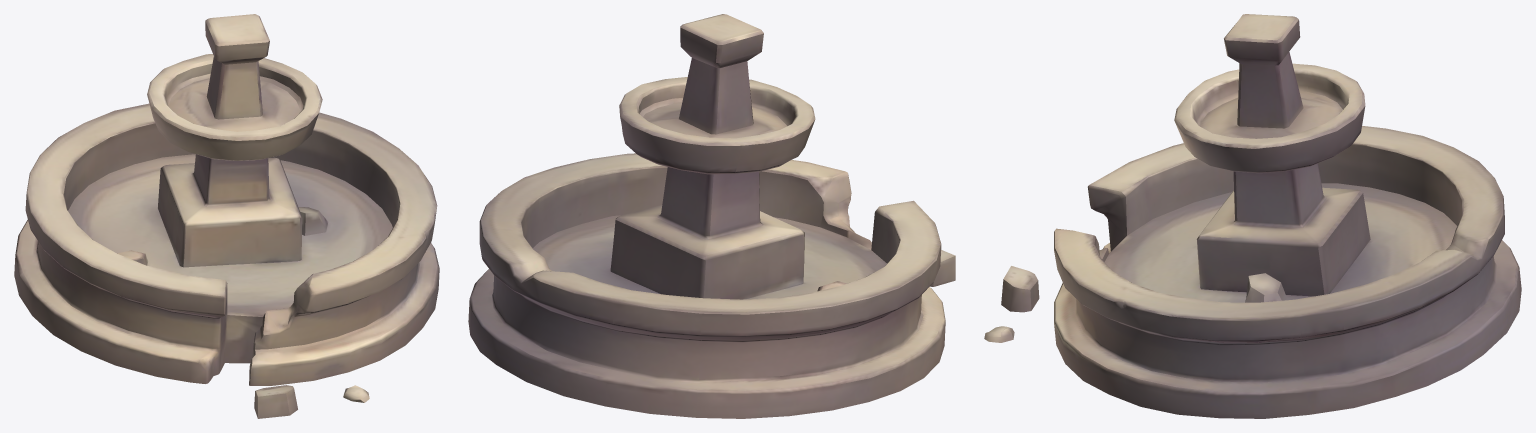
File: SM_RuinFountain_01.fbx
3 renders of one model, left to right at view 1: azimuth 30°, elevation 25°; view 2: azimuth 150°, elevation 25°; view 3: azimuth 270°, elevation 25°, orthographic. The views are drawn at different scales.
Parts seen in each view (by area): view 1: SM_RuinFountain_01; view 2: SM_RuinFountain_01; view 3: SM_RuinFountain_01.
Boxes of the visible parts, left/top/right/bottom form: SM_RuinFountain_01: left=14, top=14, right=439, bottom=418; SM_RuinFountain_01: left=468, top=14, right=955, bottom=418; SM_RuinFountain_01: left=984, top=14, right=1521, bottom=418.
Bounding box in the file's own units: 73.86 × 55.31 × 85.28.
1 material, 1 textured.
